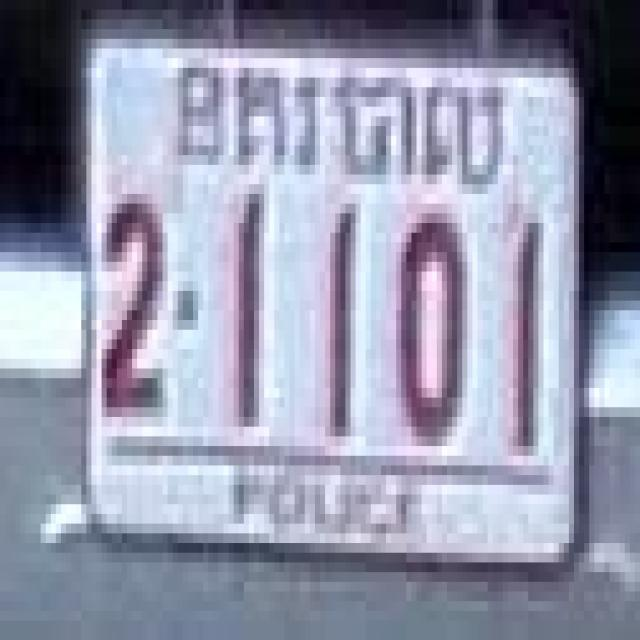Police: (173, 58, 512, 200)
